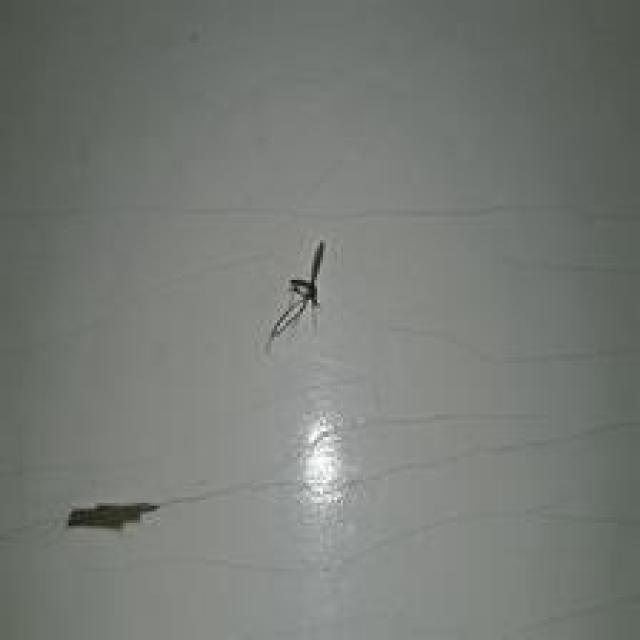Culex: (264, 238, 327, 353)
